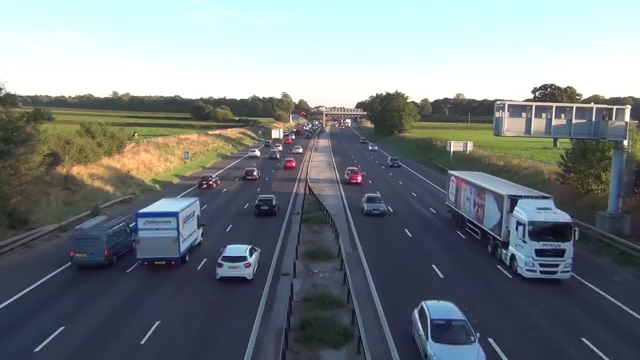car: (401, 294, 492, 360), (216, 233, 266, 281), (250, 187, 282, 220), (356, 187, 389, 217), (339, 160, 365, 185), (193, 170, 223, 191), (239, 163, 266, 186), (383, 150, 403, 169), (279, 153, 297, 173), (242, 143, 261, 159), (289, 140, 304, 156), (365, 138, 380, 153)
truck: (443, 165, 578, 283), (131, 189, 206, 265)
van: (67, 208, 134, 270)
